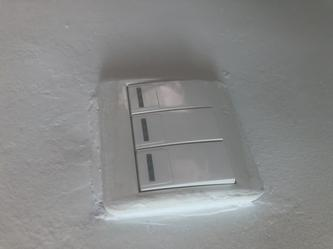switch: (133, 150, 236, 184), (129, 114, 226, 140), (124, 83, 213, 105)
